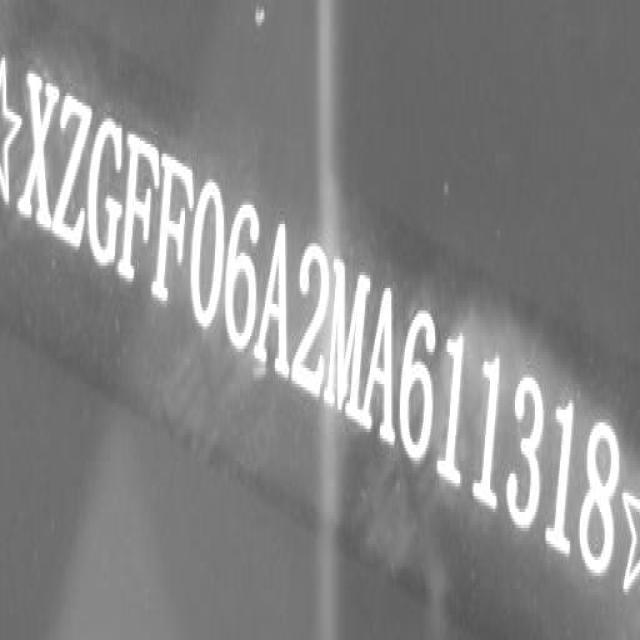0: (188, 162, 229, 340)
1: (546, 388, 580, 568), (438, 319, 470, 503), (472, 347, 504, 526)
2: (294, 225, 336, 416)
3: (507, 361, 549, 543)
6: (397, 294, 441, 474), (221, 188, 262, 368)
8: (579, 411, 623, 591)
A: (255, 205, 294, 388), (365, 276, 399, 452)
F: (153, 143, 196, 324), (118, 122, 162, 294)
G: (86, 102, 130, 276)
M: (328, 251, 377, 434)
X: (15, 61, 60, 238)
Z: (51, 83, 92, 264)
